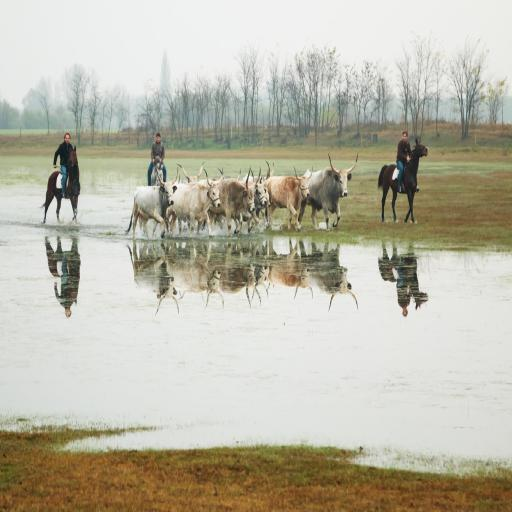Horse: (376, 138, 430, 220), (39, 146, 81, 222), (150, 155, 163, 187)
